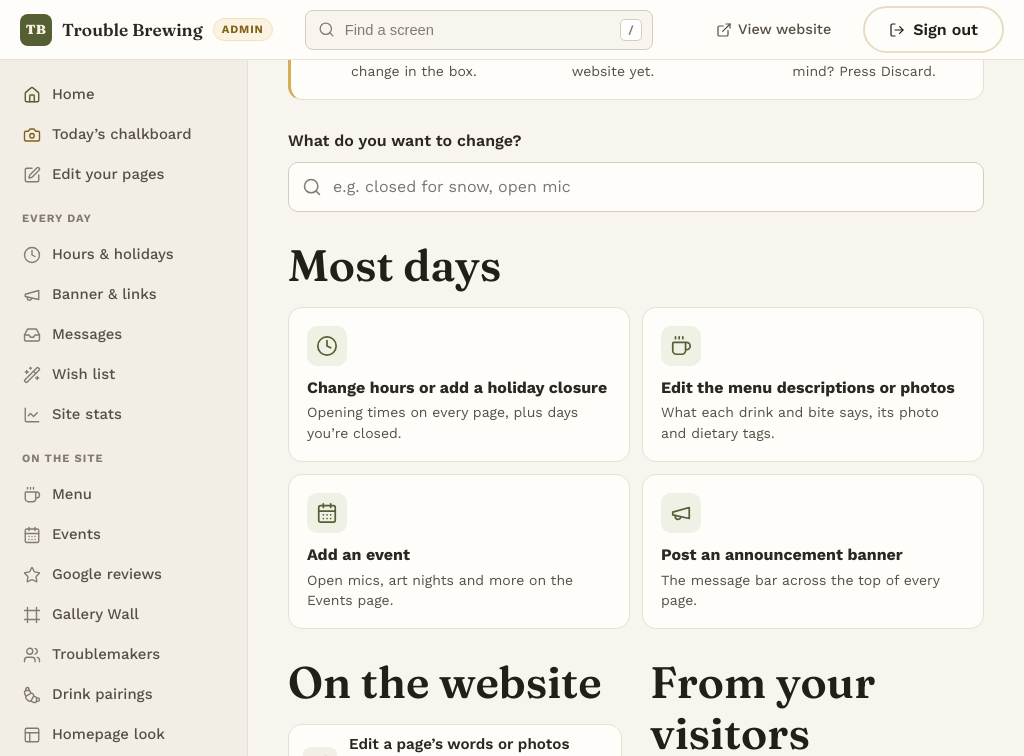
Test case: admin home › the "{}" card goes to /admin/hours and says what it changes
The image size is (1024, 756).
(page scrolled)
Click the link "Change hours or add a holiday closure" at (459, 384), box top-left (288, 307), bottom-right (630, 462)
(page scrolled)
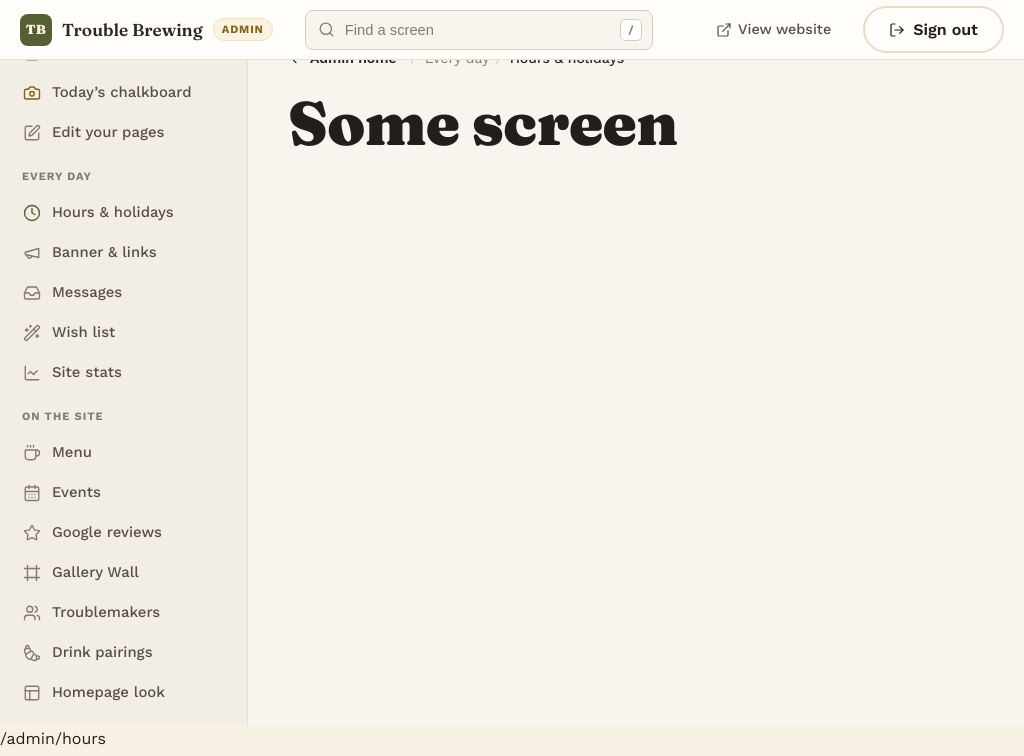
Result: the text with test id "where" reads "/admin/hours" at top-left (0, 729), bottom-right (106, 748)
